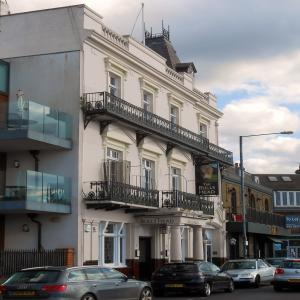Vehicle-registration-plate: (13, 291, 35, 297)
